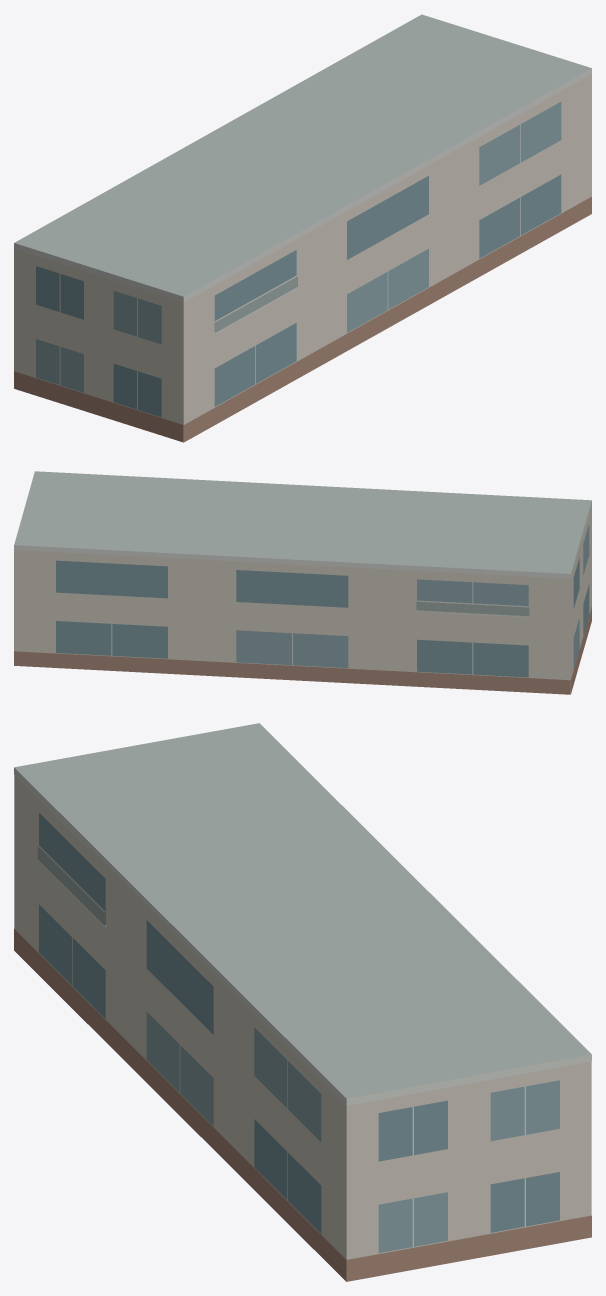
File: survey-upis-32498081.glb
3 renders of one model, top to bottom at view 1: azimuth 30°, elevation 25°; view 2: azimuth 150°, elevation 25°; view 3: azimuth 270°, elevation 25°, orthographic. The views are drawn at different scales.
Parts seen in each view (by area): view 1: survey-upis-32498081.tmp; view 2: survey-upis-32498081.tmp; view 3: survey-upis-32498081.tmp.
Part boxes in pixels (<box>): survey-upis-32498081.tmp: <box>14,14,591,442</box>; survey-upis-32498081.tmp: <box>14,471,591,694</box>; survey-upis-32498081.tmp: <box>14,723,591,1281</box>.
Bounding box in the file's own units: 26.83 × 6.1 × 17.44.
